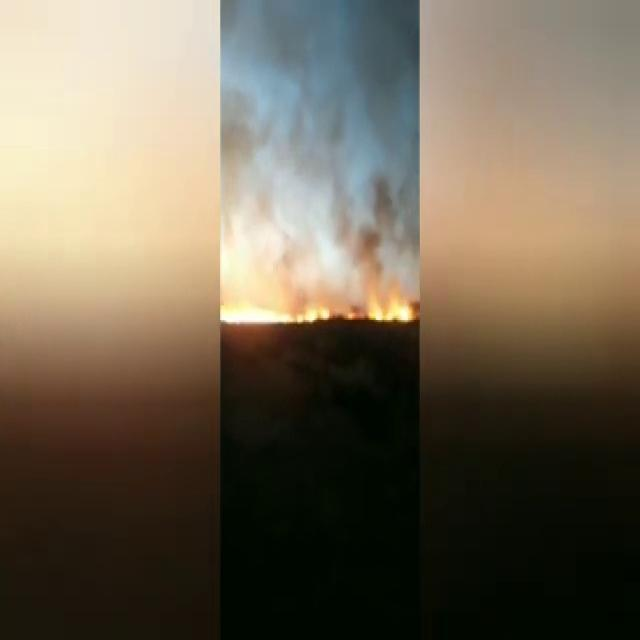Fire: (217, 294, 332, 326), (369, 296, 413, 326)
Smoke: (221, 1, 416, 308), (351, 143, 416, 310), (264, 195, 339, 312)
